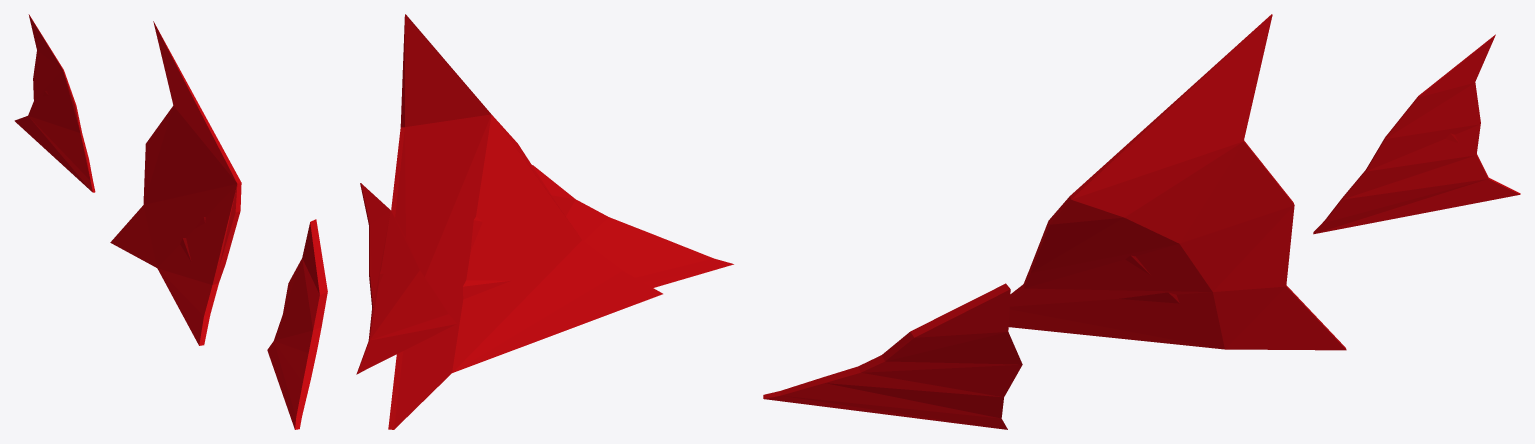
The model's file is Sails.FBX.
3 views of the same model, side by side, from view 1: azimuth 30°, elevation 25°; view 2: azimuth 150°, elevation 25°; view 3: azimuth 270°, elevation 25° (orthographic). The views are drawn at different scales.
Visible parts, largest first — view 1: Box009; view 2: Box009; view 3: Box009.
Part boxes in pixels (bbox=[...]): Box009: bbox=[14, 14, 327, 429]; Box009: bbox=[356, 14, 733, 429]; Box009: bbox=[763, 14, 1520, 429].
Size of the model in its own units: 0.0511 by 0.1024 by 0.1739.
